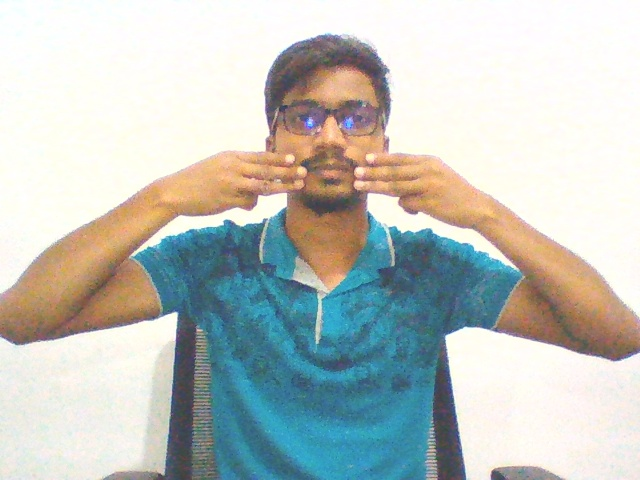cat: (149, 130, 509, 244)
